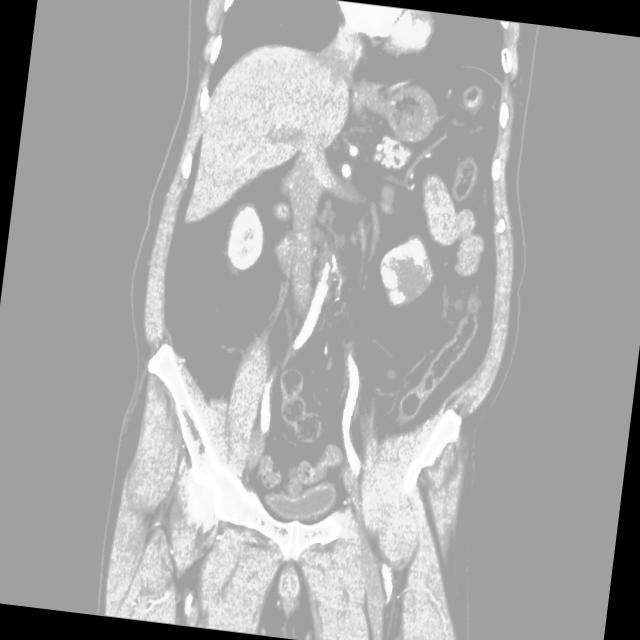TUMOR: (185, 157, 492, 348)
